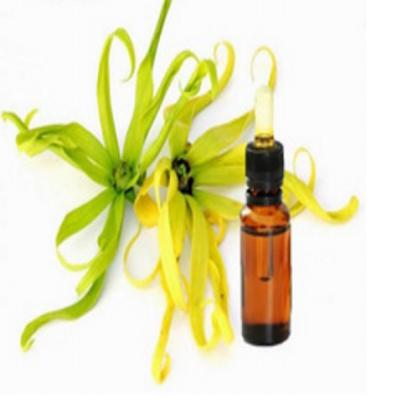Kenanga: (60, 101, 244, 325)
